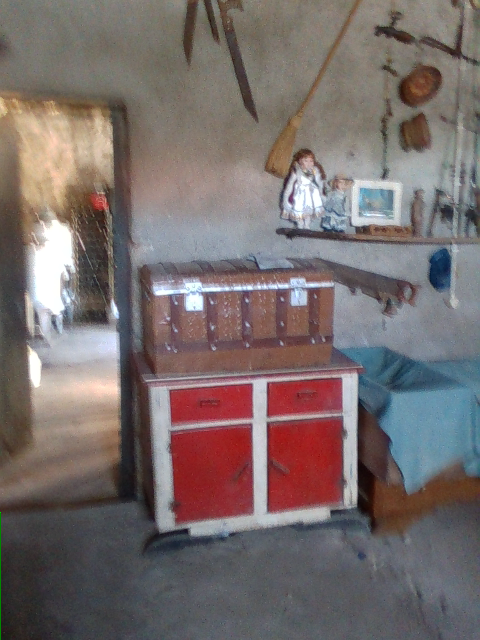semi: (1, 96, 137, 493)
